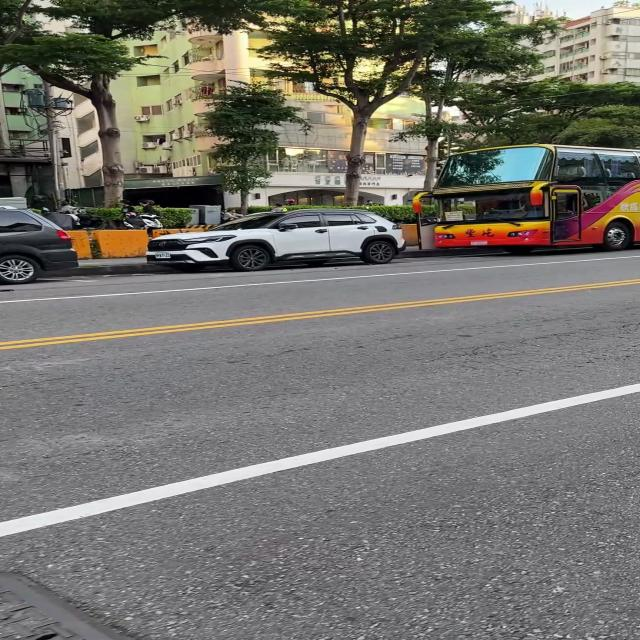bus: (424, 144, 640, 252)
car: (146, 210, 404, 271), (0, 206, 77, 284)
